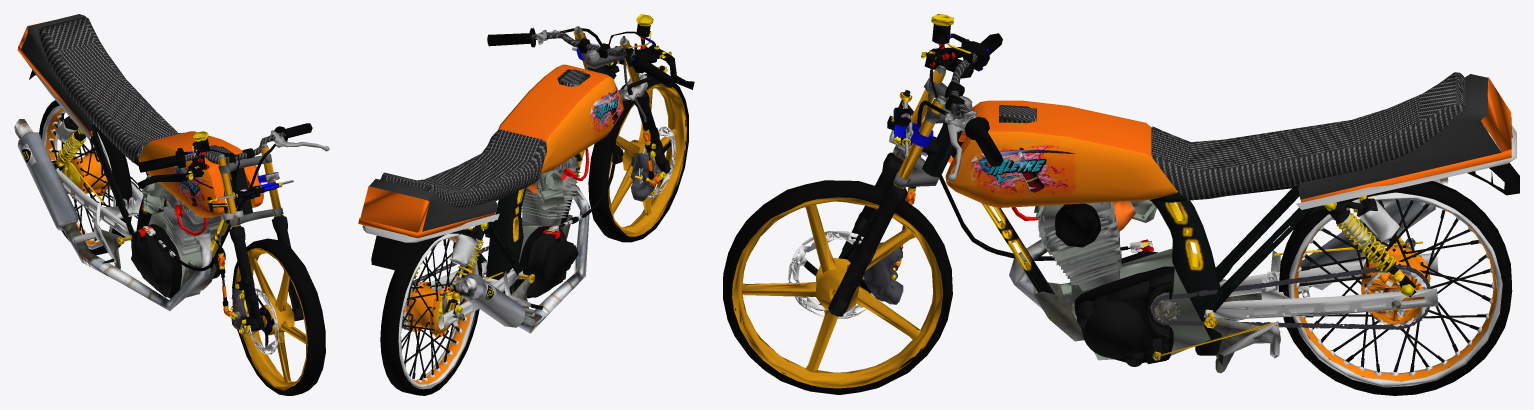
File: gl mletre.fbx
3 renders of one model, left to right at view 1: azimuth 30°, elevation 25°; view 2: azimuth 150°, elevation 25°; view 3: azimuth 270°, elevation 25°, orthographic. The views are drawn at different scales.
Visible parts, largest first — view 1: chassis, ban depan, steer, ban belakang, axle depaan, forks_rear; view 2: chassis, ban belakang, ban depan, steer, forks_rear, axle depaan; view 3: chassis, ban depan, ban belakang, forks_rear, steer, axle depaan.
Boxes of the visible parts, bbox=[...] form: chassis: bbox=[14, 14, 263, 310]; ban depan: bbox=[232, 238, 325, 395]; steer: bbox=[138, 123, 329, 271]; ban belakang: bbox=[39, 100, 132, 255]; axle depaan: bbox=[217, 156, 303, 334]; forks_rear: bbox=[53, 116, 143, 241]; chassis: bbox=[358, 64, 623, 333]; ban belakang: bbox=[380, 229, 482, 395]; ban depan: bbox=[588, 74, 688, 242]; steer: bbox=[487, 14, 694, 238]; forks_rear: bbox=[402, 222, 523, 330]; axle depaan: bbox=[612, 36, 670, 201]; chassis: bbox=[911, 72, 1519, 373]; ban depan: bbox=[723, 180, 952, 394]; ban belakang: bbox=[1279, 181, 1512, 395]; forks_rear: bbox=[1151, 195, 1438, 329]; steer: bbox=[887, 14, 1153, 260]; axle depaan: bbox=[828, 70, 933, 316].
Bounding box in the file's own units: 0.7367 × 1.9 × 0.9104.
84 materials, 53 textured.
